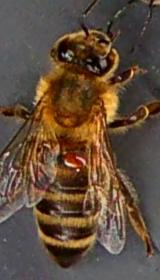varroa_mite: (60, 146, 88, 170)
